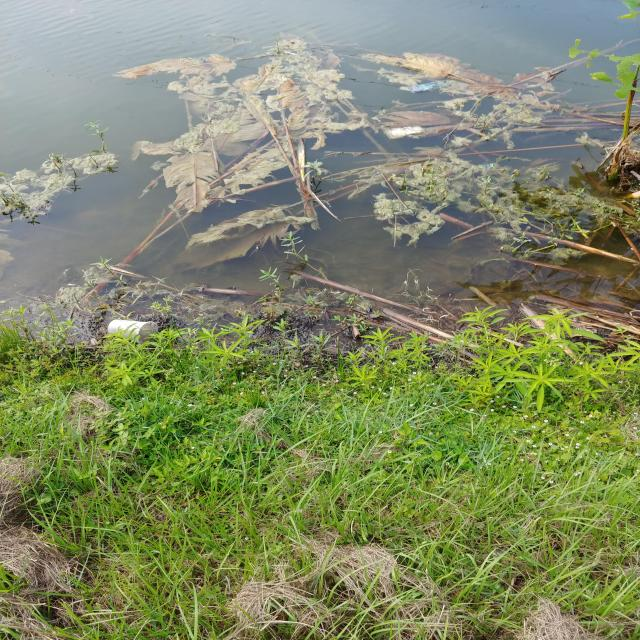litter: (100, 317, 160, 345), (379, 126, 429, 141)
